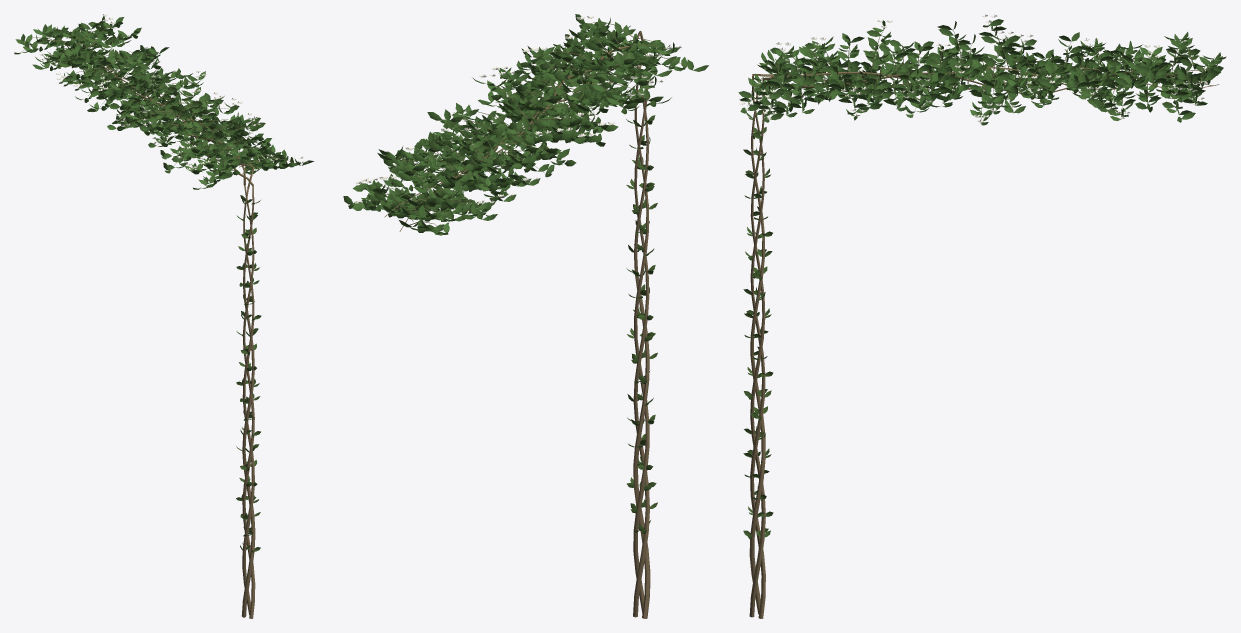
File: trachelospermum-jasminoides.glb
3 renders of one model, left to right at view 1: azimuth 30°, elevation 25°; view 2: azimuth 150°, elevation 25°; view 3: azimuth 270°, elevation 25°, orthographic. The views are drawn at different scales.
Parts seen in each view (by area): view 1: Jasmine glossy opposite leaves, Jasmine supported woody stems, Jasmine five-petal ivory flowers; view 2: Jasmine glossy opposite leaves, Jasmine supported woody stems, Jasmine five-petal ivory flowers; view 3: Jasmine glossy opposite leaves, Jasmine supported woody stems, Jasmine five-petal ivory flowers.
Part boxes in pixels (x1,y1,x2,y2): Jasmine glossy opposite leaves: (14,16,314,553); Jasmine supported woody stems: (21,22,298,618); Jasmine five-petal ivory flowers: (39,14,308,170); Jasmine glossy opposite leaves: (343,14,708,533); Jasmine supported woody stems: (366,21,693,618); Jasmine five-petal ivory flowers: (353,15,681,204); Jasmine glossy opposite leaves: (738,19,1226,539); Jasmine supported woody stems: (747,25,1219,618); Jasmine five-petal ivory flowers: (740,14,1204,122).
Size of the model in its own units: 0.7605 by 2.86 by 2.22.
